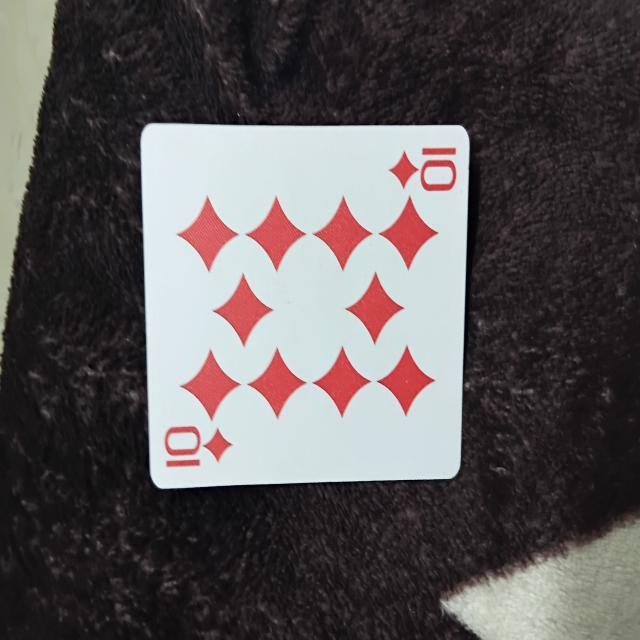10D: (142, 128, 465, 489)
